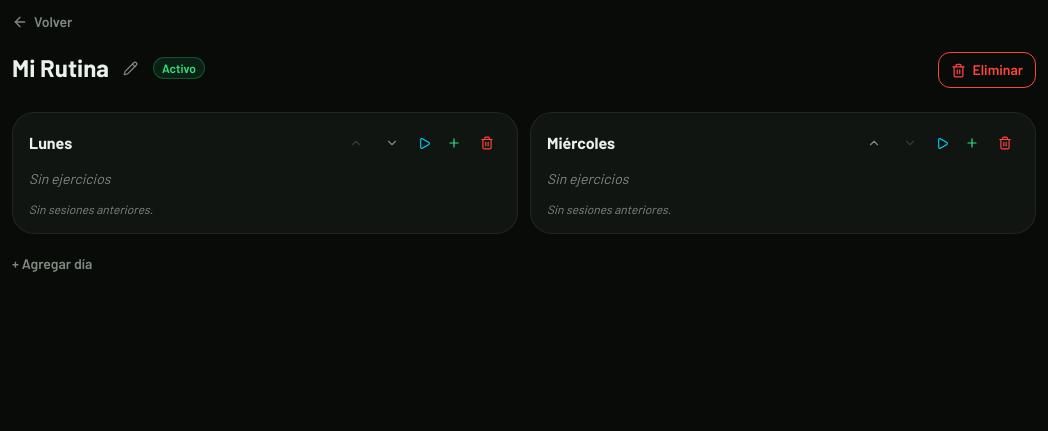
Test: remove training day (TrainingDayCard) › shows the API error message when day removal fails
The image size is (1048, 431).
Expected: the heading "Lunes" is shown, x1=29 y1=131 x2=72 y2=155
What coordinates should you click on to do the following:
click the button named "Eliminar día" in the row of "Lunes"
I would click on:
 (487, 143)
Its box is x1=473 y1=129 x2=501 y2=157.
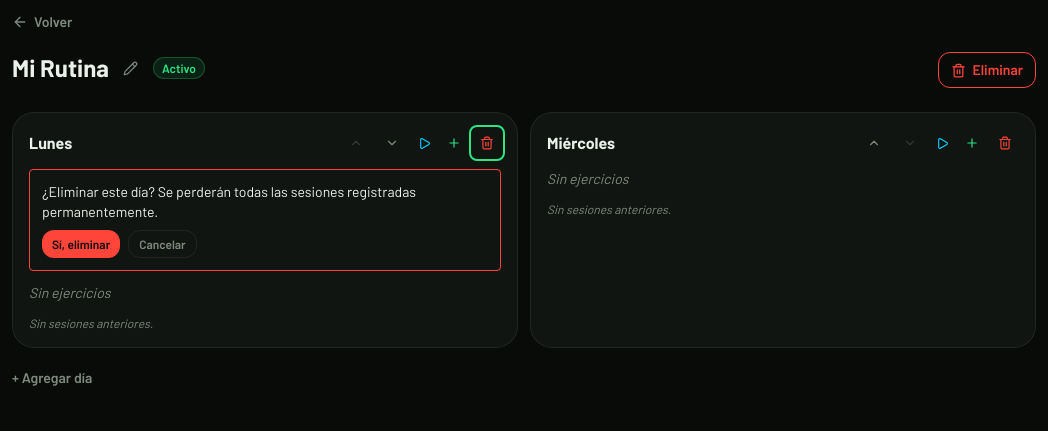
What coordinates should you click on to do the following:
click the button "Sí, eliminar"
I would click on:
 (81, 244)
Its box is x1=42 y1=230 x2=120 y2=258.
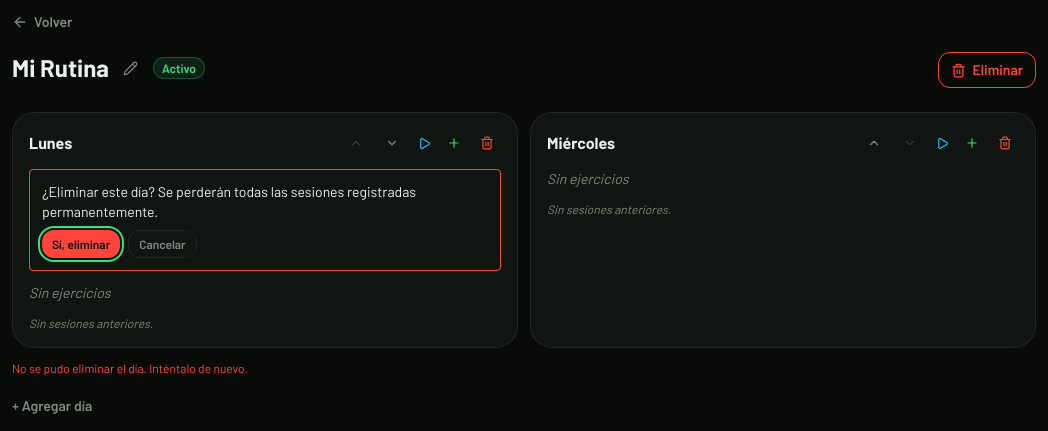
Now the text "No se pudo eliminar el día. Inténtalo de nuevo." is shown, box x1=12 y1=361 x2=248 y2=375
